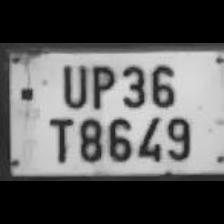3: (116, 60, 146, 108)
4: (134, 111, 162, 163)
6: (146, 60, 178, 108), (104, 112, 134, 162)
8: (76, 112, 102, 164)
9: (162, 111, 192, 161)
P: (85, 60, 115, 108)
T: (43, 112, 75, 162)
U: (57, 60, 87, 108)
